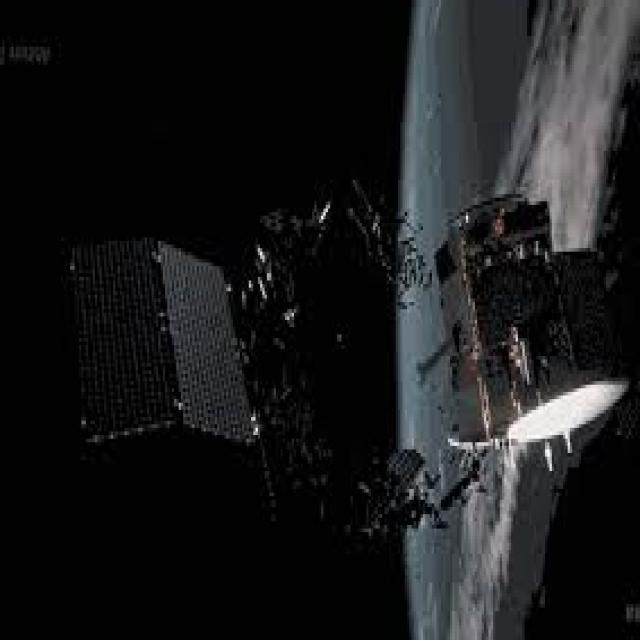large_debris: (321, 198, 630, 478), (40, 198, 274, 483), (347, 453, 485, 552), (274, 198, 315, 480)
